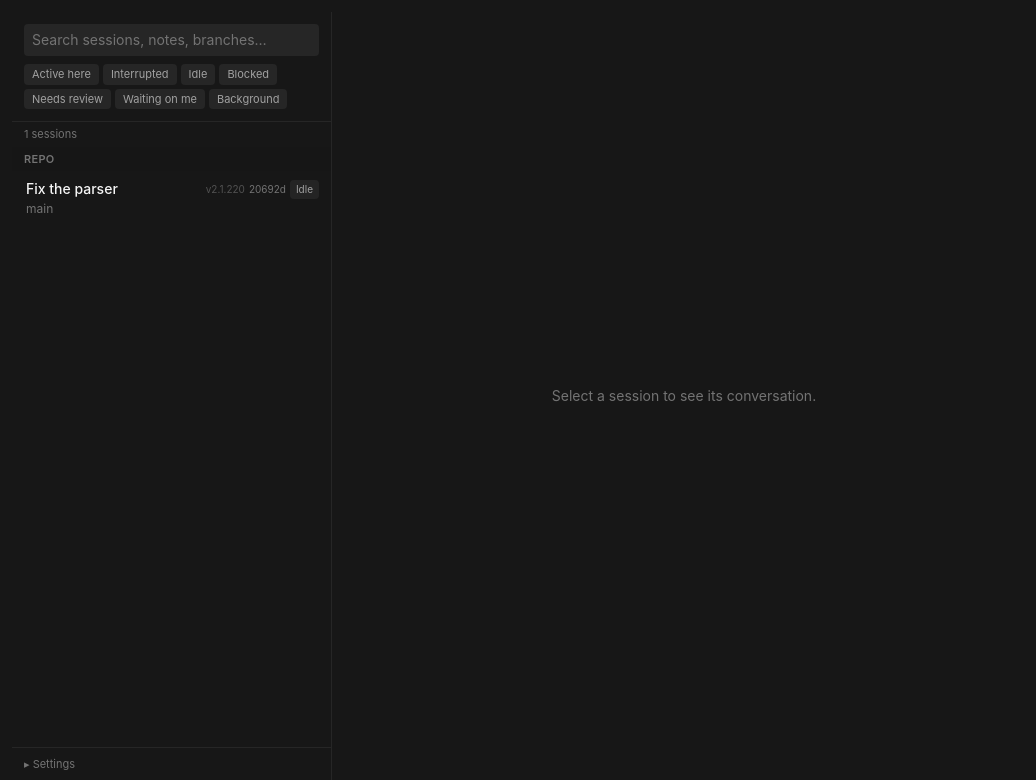
Test: App › opens the details slide-over on demand
Click the text "Fix the parser": (72, 189) [26,179,118,199]
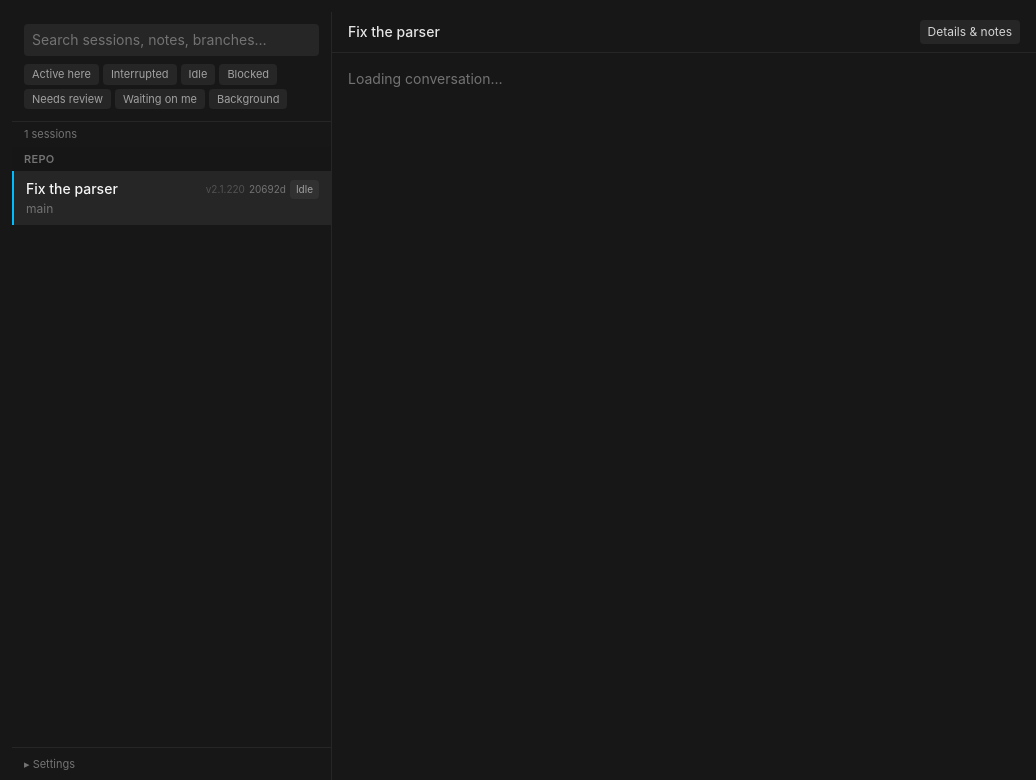
Click the button "Details & notes": (970, 32) [920,20,1020,44]
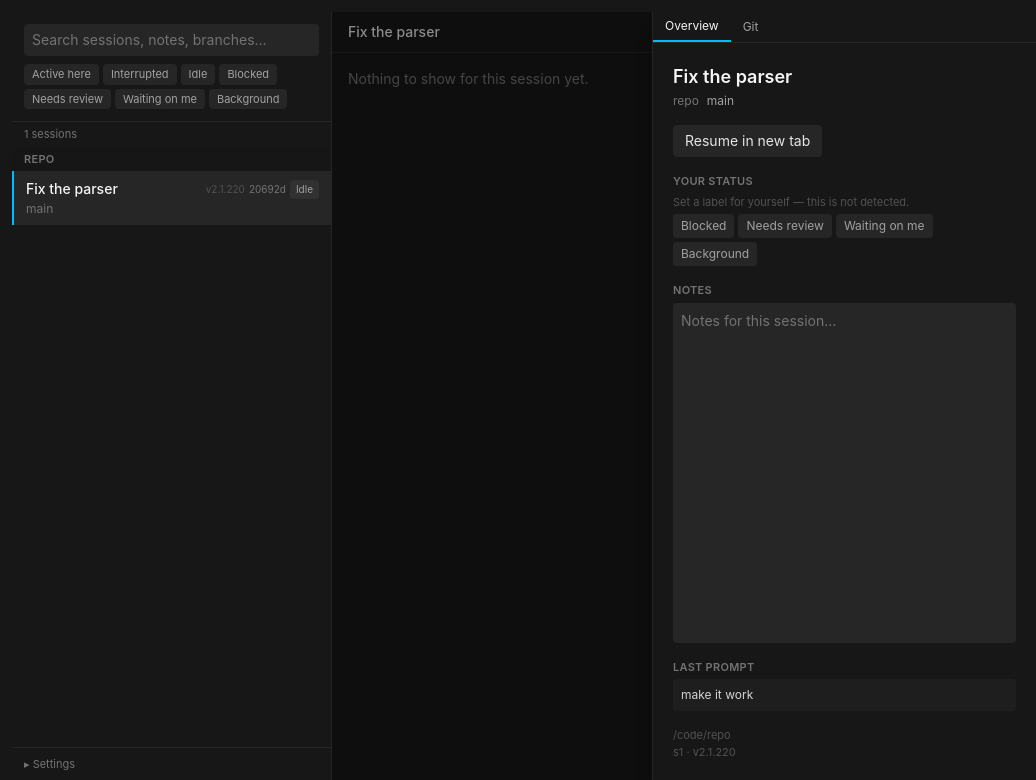
Result: the element with test id "detail-slideover" is shown at [652,12,1035,779]
